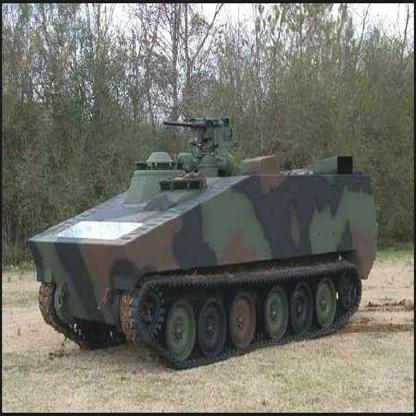Tank: (25, 104, 411, 369)
